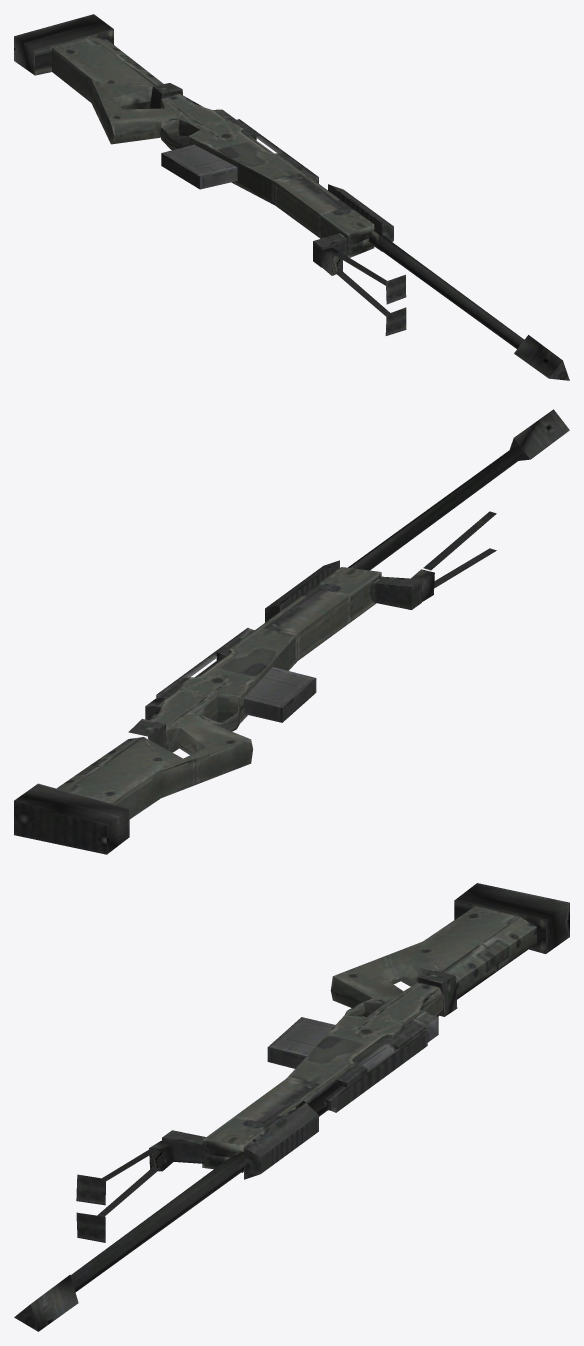
Rendered from Pickup_WeaponJjq02.glb.
3 views of the same model, one above another, from view 1: azimuth 30°, elevation 25°; view 2: azimuth 150°, elevation 25°; view 3: azimuth 330°, elevation 25° (orthographic). The views are drawn at different scales.
Visible parts, largest first — view 1: pk_weapon_jjq02; view 2: pk_weapon_jjq02; view 3: pk_weapon_jjq02.
Boxes of the visible parts, x1,y1,x2,y2 form: pk_weapon_jjq02: (14, 14, 569, 380); pk_weapon_jjq02: (14, 409, 569, 854); pk_weapon_jjq02: (14, 883, 569, 1331).
Size of the model in its own units: 0.9093 by 0.4343 by 6.68.
1 material, 1 textured.
